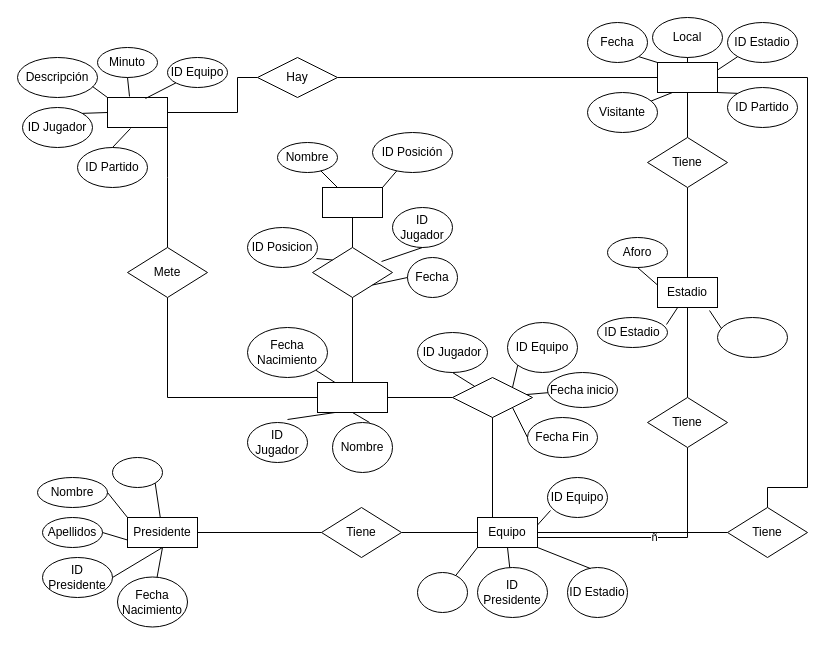
This 826x645 diagram has some shape labels left out. The shapes that lost their labels are listed below. From the top down, each one's centre as x and y in pixels, then its label:
[687,77]: Partido
[137,112]: GOL
[352,202]: Posicion
[352,272]: Jug Posición
[752,337]: Nombre Estadio
[352,397]: Jugador
[492,397]: Jug Equipo
[137,472]: Año
[442,592]: Ciudad
